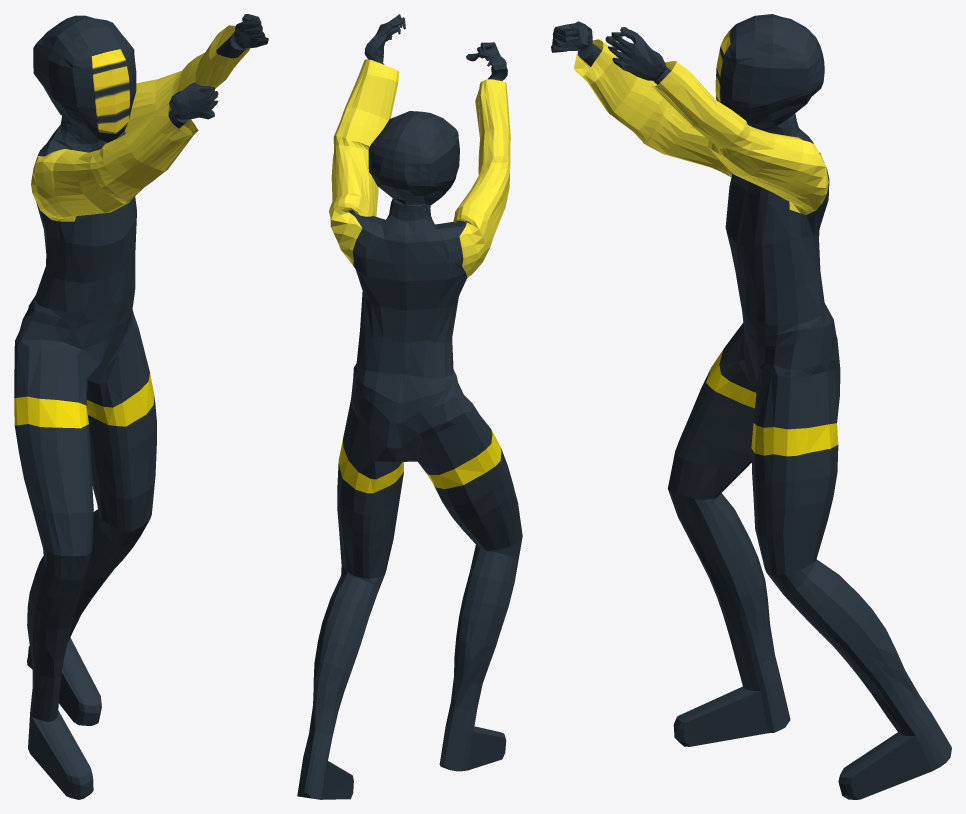
File: Sentry_Attack_000017.obj
3 views of the same model, side by side, from view 1: azimuth 30°, elevation 25°; view 2: azimuth 150°, elevation 25°; view 3: azimuth 270°, elevation 25° (orthographic). The views are drawn at different scales.
Parts seen in each view (by area): view 1: Cube; view 2: Cube; view 3: Cube.
Part boxes in pixels (left/top/right/bottom): Cube: left=14, top=14, right=268, bottom=799; Cube: left=297, top=14, right=522, bottom=799; Cube: left=551, top=14, right=951, bottom=799.
Bounding box in the file's own units: 1.06 × 4.09 × 1.87.
